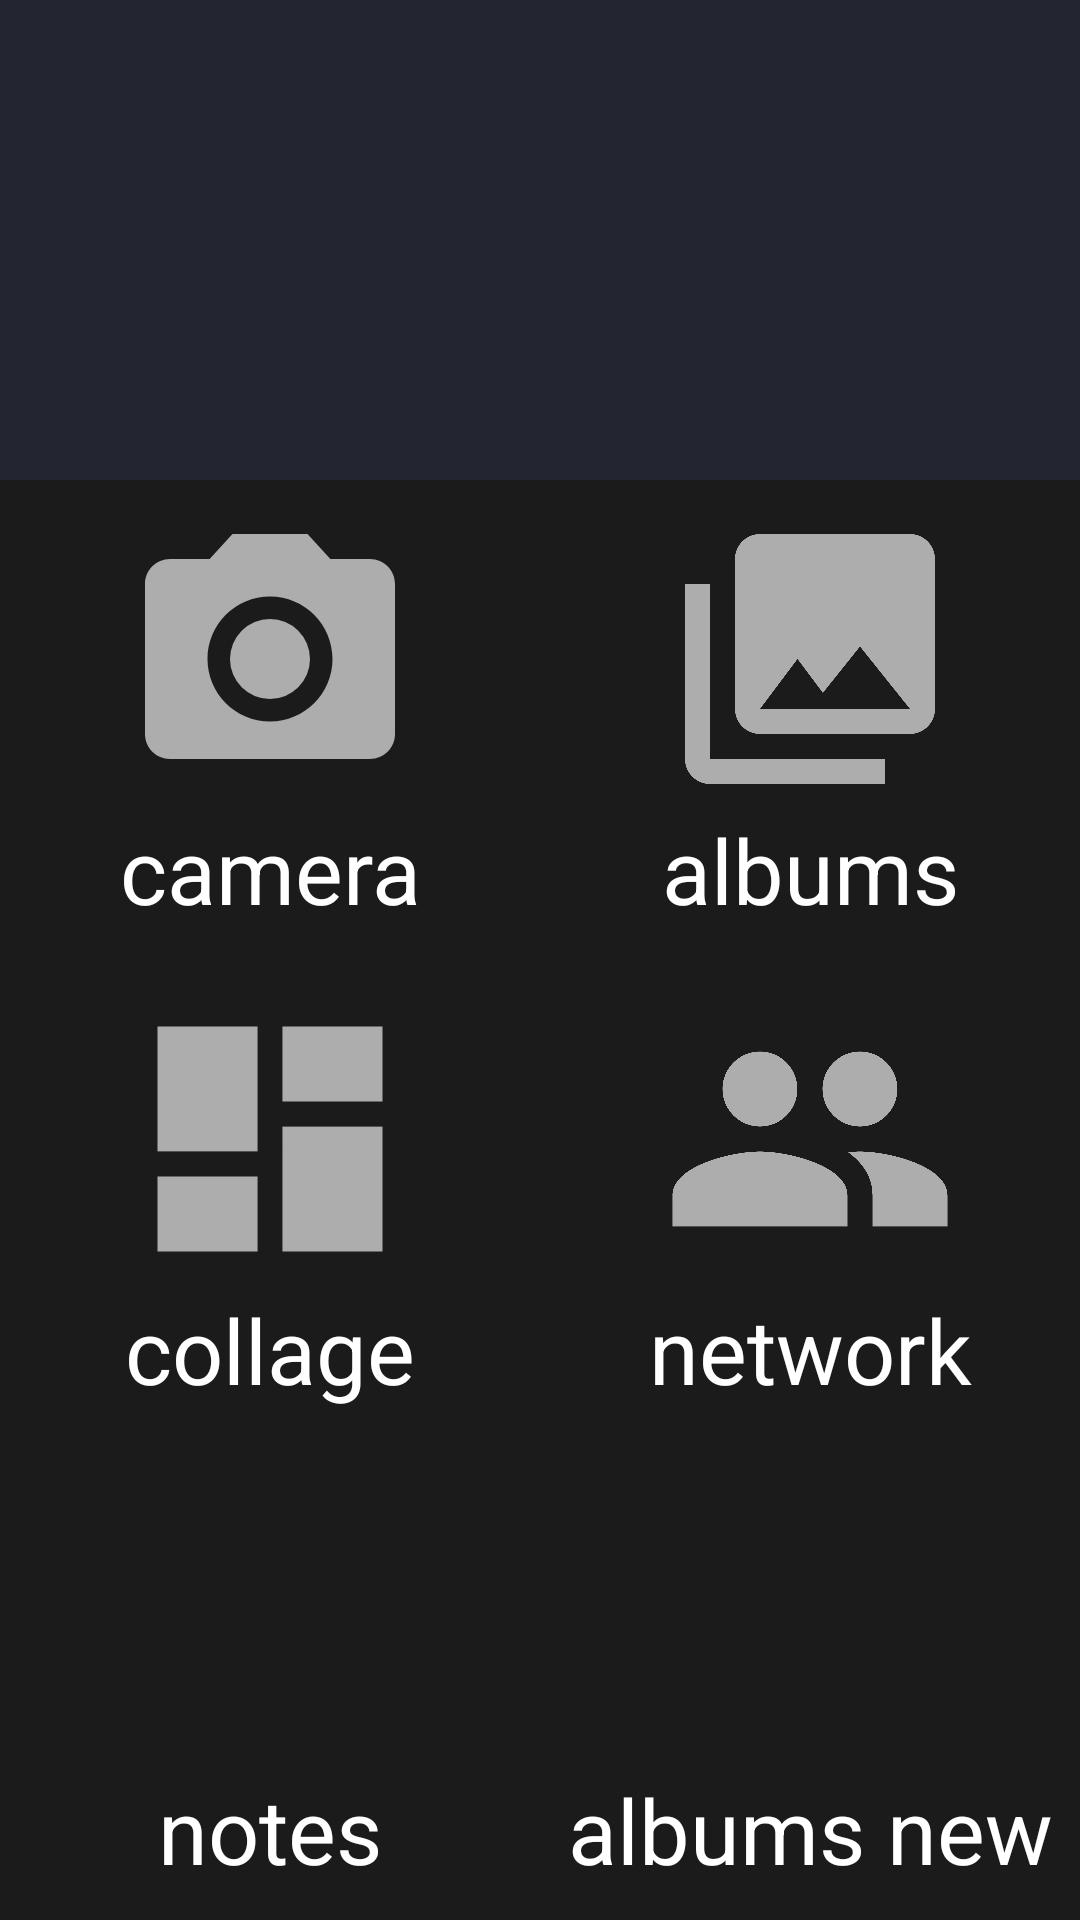

Point at icon controls on the screen. Image size 1080*1920, points as (x,y).
collections: (810,659)
dashboard: (270,1139)
people: (810,1139)
